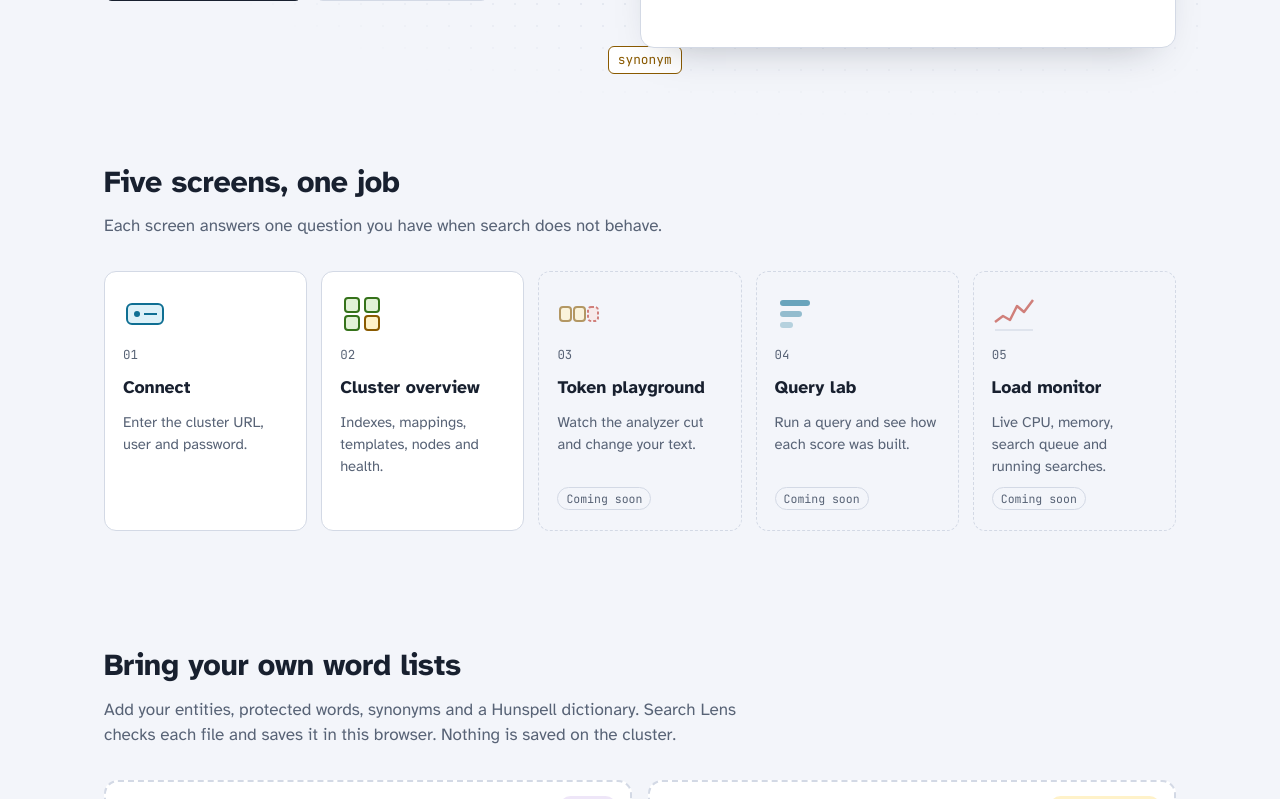
Home page › R5.3 the Connect card opens the connect screen
(page scrolled)
Click the link "01 Connect Enter the cluster URL, user and password.".
click(206, 401)  # box [104,271,307,531]
(page scrolled)
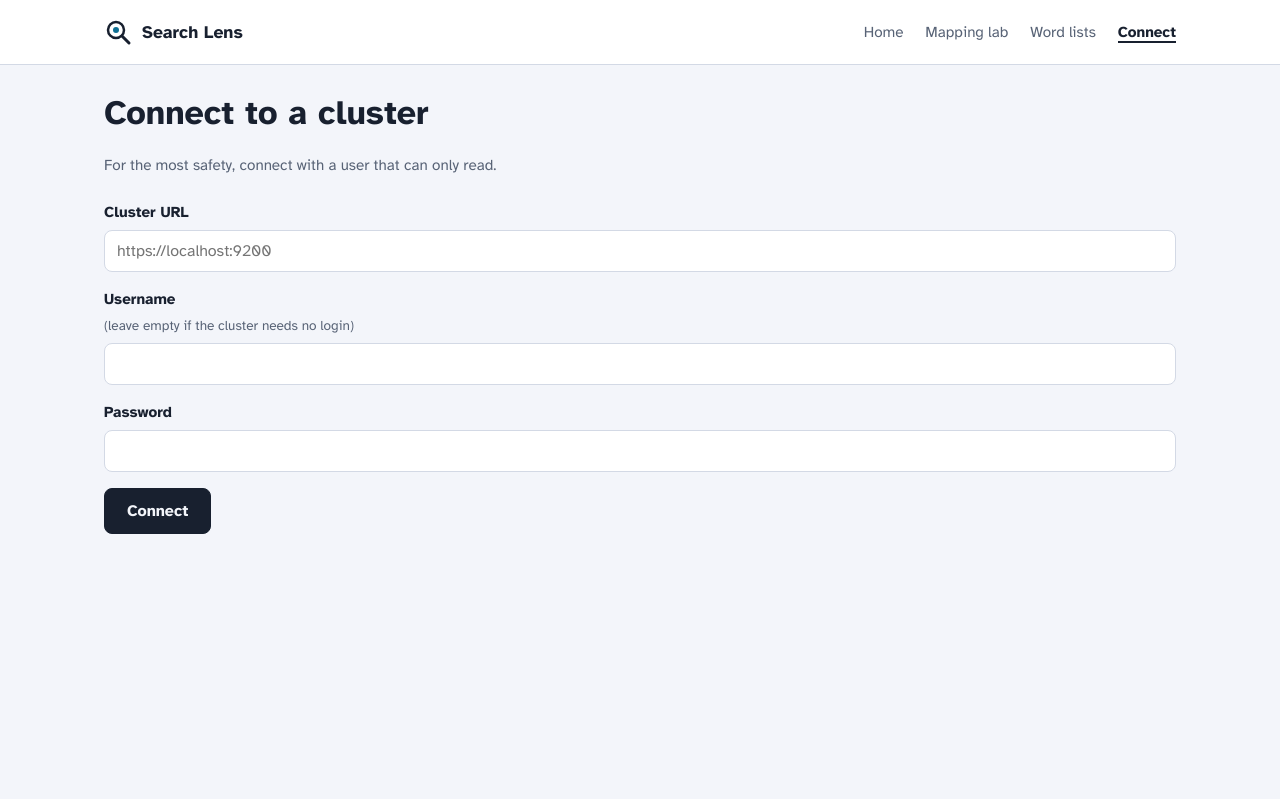
expect the heading "Connect to a cluster" is shown: met, box [104,92,429,134]
